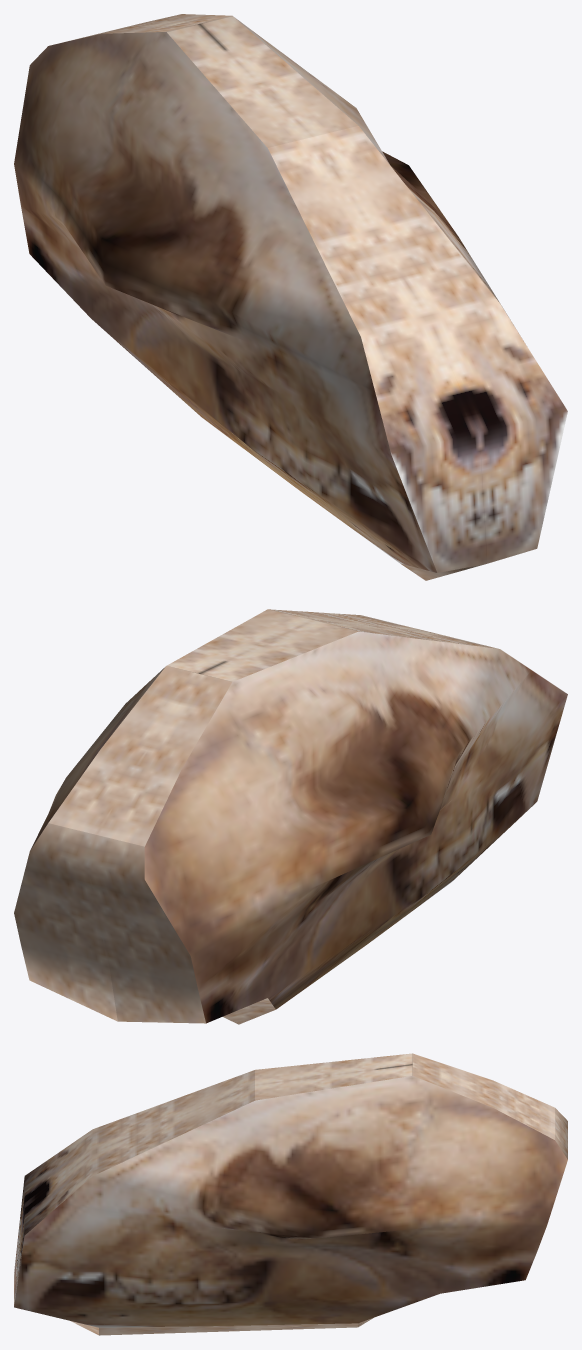
The model's file is Bear_Skull.fbx.
The picture shows the model from 3 angles, top to bottom: view 1: azimuth 30°, elevation 25°; view 2: azimuth 150°, elevation 25°; view 3: azimuth 270°, elevation 25°; orthographic projection. The views are drawn at different scales.
Visible parts, largest first — view 1: Bear_Skull; view 2: Bear_Skull; view 3: Bear_Skull.
Part boxes in pixels (x1,y1,x2,y2): Bear_Skull: (14, 14, 567, 580); Bear_Skull: (14, 609, 567, 1024); Bear_Skull: (14, 1053, 567, 1335).
Size of the model in its own units: 2.91 by 3.34 by 6.2.
3 materials, 3 textured.
